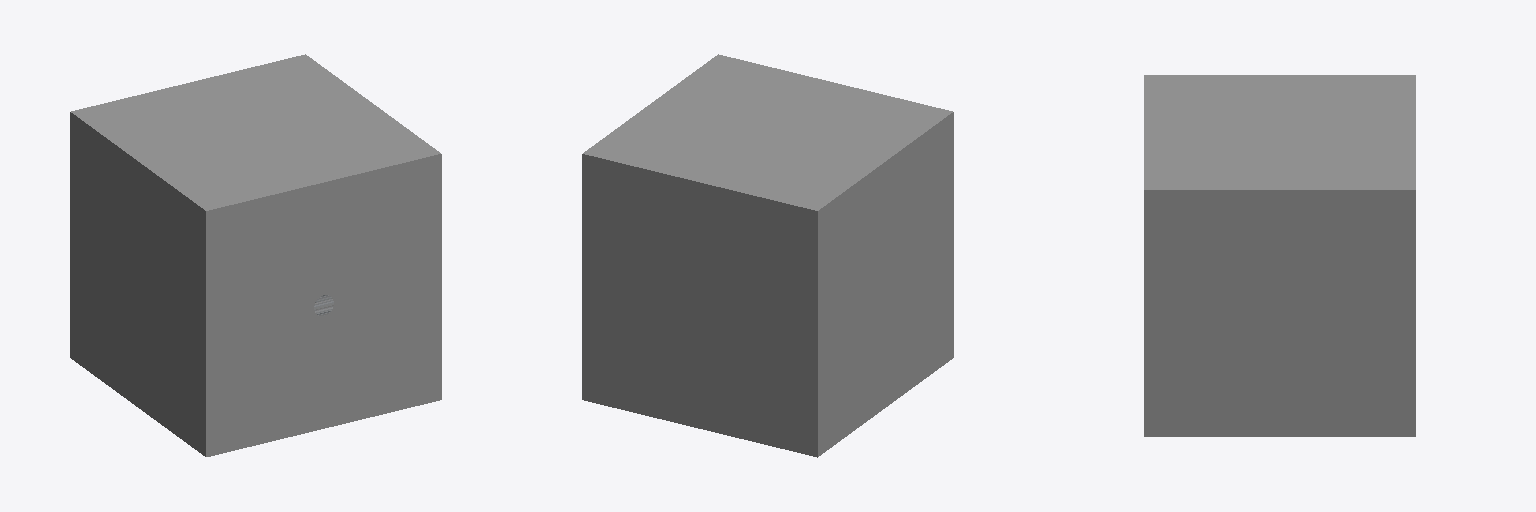
3 renders of one model, left to right at view 1: azimuth 30°, elevation 25°; view 2: azimuth 150°, elevation 25°; view 3: azimuth 270°, elevation 25°, orthographic.
Visible parts, largest first — view 1: Minecraft_Block_Cube.001; view 2: Minecraft_Block_Cube.001; view 3: Minecraft_Block_Cube.001.
Part boxes in pixels (x1,y1,x2,y2): Minecraft_Block_Cube.001: (70, 54, 441, 456); Minecraft_Block_Cube.001: (582, 54, 953, 457); Minecraft_Block_Cube.001: (1144, 75, 1415, 436).
Size of the model in its own units: 1 by 1 by 1.
Materials: 5 (3 with a texture image).